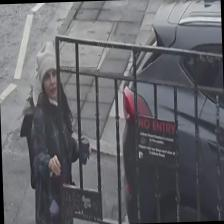person: (27, 39, 93, 224)
